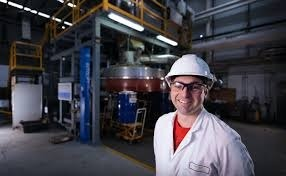helmet: (163, 52, 217, 89)
person with partial safety: (150, 53, 257, 175)
